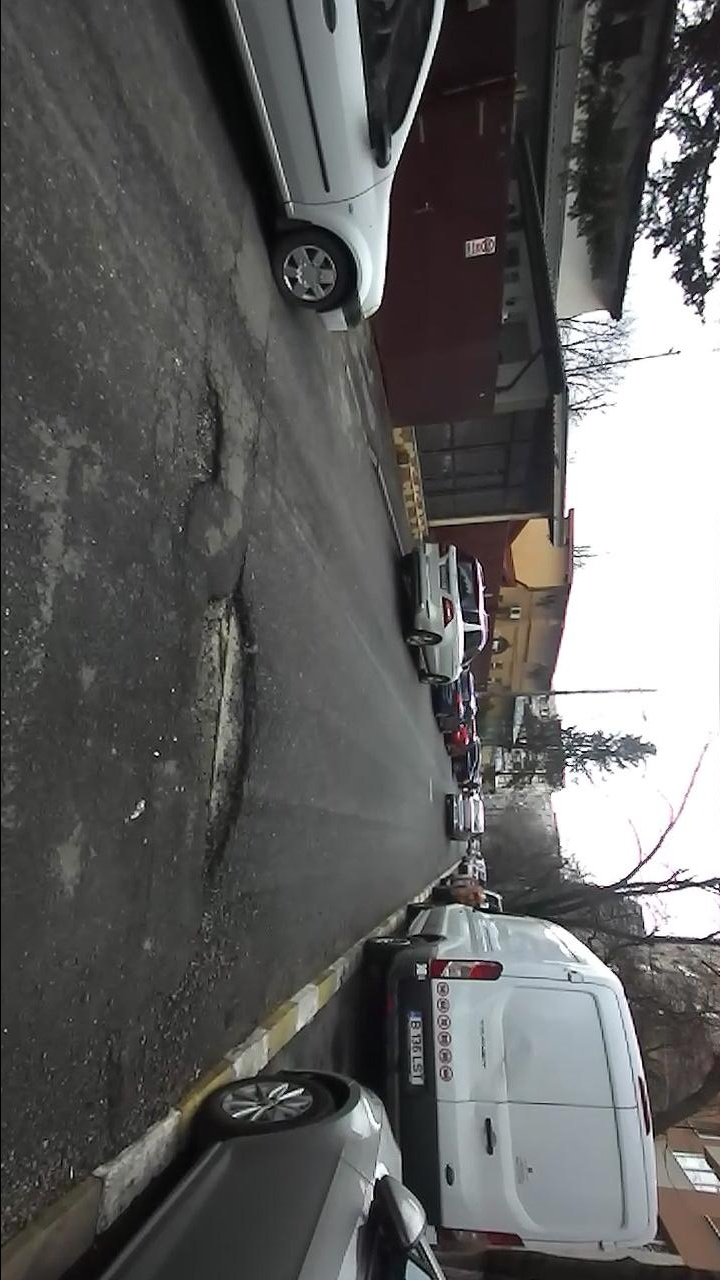pothole: (184, 548, 268, 901), (177, 360, 228, 519)
